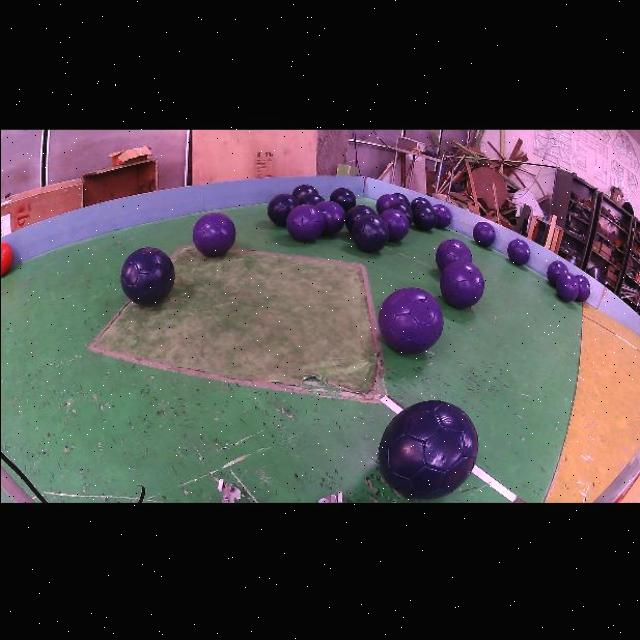B: (379, 399, 479, 498), (120, 246, 174, 303), (351, 212, 389, 251), (267, 191, 298, 225), (345, 203, 376, 231), (412, 202, 437, 229), (329, 186, 355, 211), (388, 201, 412, 223), (292, 182, 318, 197), (298, 191, 324, 204), (410, 195, 431, 208), (393, 191, 410, 204)
P: (377, 286, 444, 352), (440, 259, 484, 307), (192, 211, 236, 255), (285, 203, 324, 240), (436, 237, 472, 269), (315, 199, 345, 233), (380, 207, 409, 240), (555, 271, 579, 301), (507, 237, 531, 264), (472, 220, 496, 245), (548, 259, 568, 284), (432, 202, 451, 226), (375, 193, 399, 212), (575, 273, 590, 301)
R: (0, 239, 11, 275)
